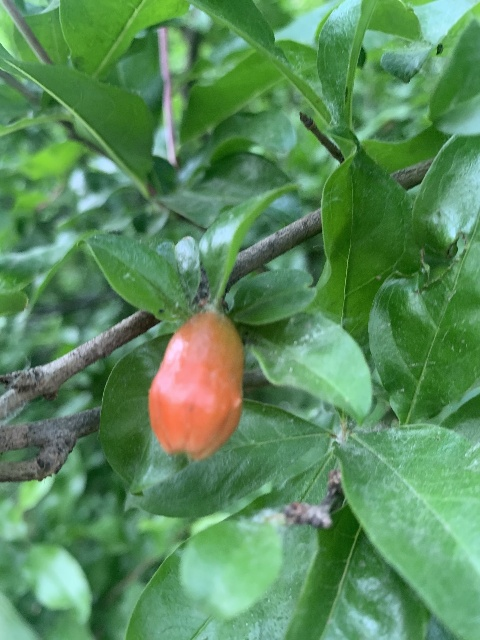bud: (147, 311, 244, 462)
